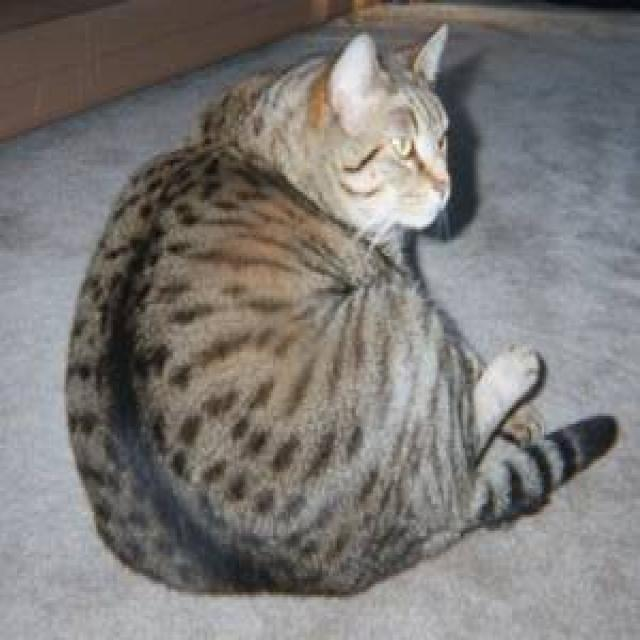Egyptian_Mau: (271, 20, 455, 247)
